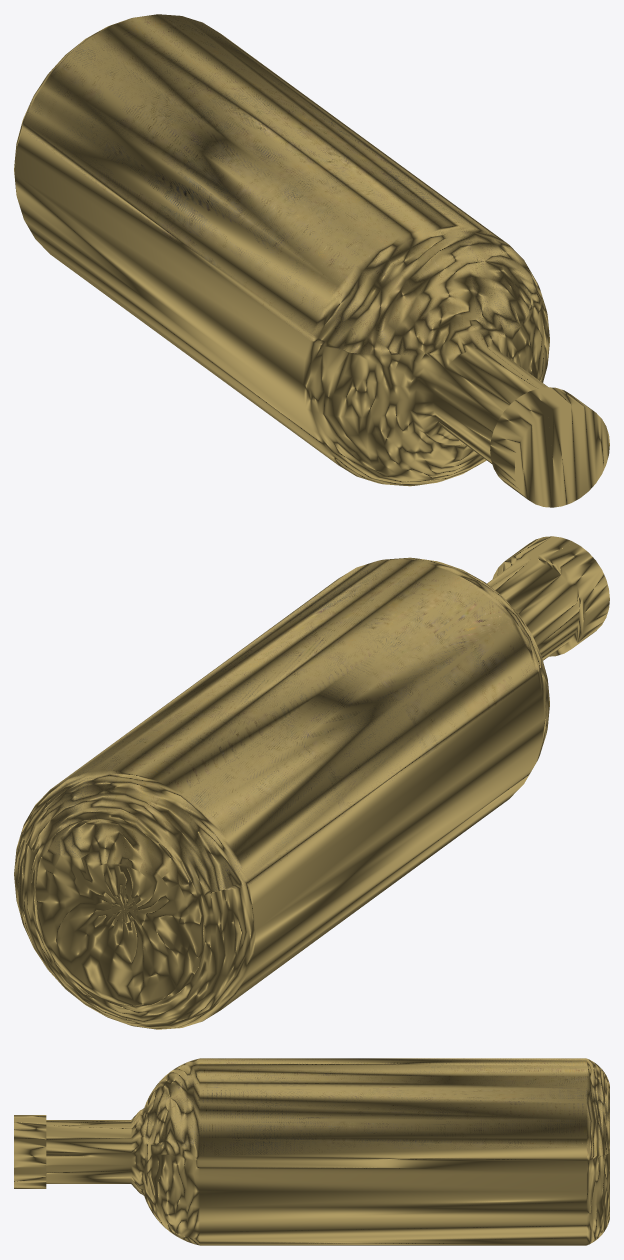
The model's file is model_align.obj.
3 views of the same model, one above another, from view 1: azimuth 30°, elevation 25°; view 2: azimuth 150°, elevation 25°; view 3: azimuth 270°, elevation 25° (orthographic). The views are drawn at different scales.
Bounding box in the file's own units: 0.0781 × 0.0781 × 0.2484.
